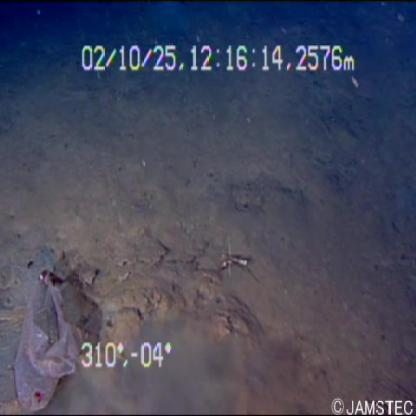Rác: (6, 262, 91, 414)
